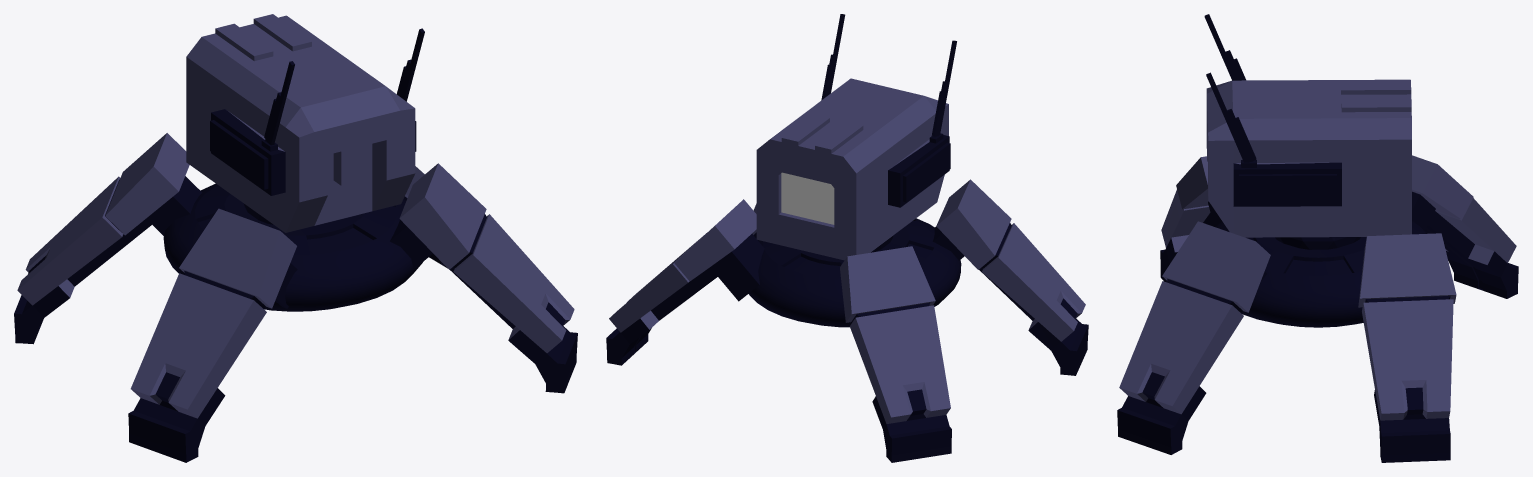
File: Araña.fbx
3 views of the same model, side by side, from view 1: azimuth 30°, elevation 25°; view 2: azimuth 150°, elevation 25°; view 3: azimuth 270°, elevation 25° (orthographic). The views are drawn at different scales.
Parts seen in each view (by area): view 1: Head, Leg.01.BL, Leg.01.BR, Body, Leg.01.FL, Leg.00.FL, Leg.00.BR; view 2: Head, Leg.01.FL, Leg.01.BL, Body, Leg.01.FR, Leg.00.FR; view 3: Head, Leg.01.FR, Leg.01.BR, Body, Leg.01.FL, Leg.01.BL, Neck, Leg.00.FL.
Boxes of the visible parts, x1,y1,x2,y2 form: Head: (186, 14, 424, 232); Leg.01.BL: (128, 208, 296, 462); Leg.01.BR: (399, 163, 577, 393); Body: (163, 183, 422, 311); Leg.01.FL: (14, 133, 189, 344); Leg.00.FL: (146, 176, 202, 235); Leg.00.BR: (390, 219, 432, 270); Head: (756, 14, 956, 260); Leg.01.FL: (840, 246, 951, 462); Leg.01.BL: (936, 179, 1088, 375); Body: (748, 218, 961, 327); Leg.01.FR: (606, 199, 756, 365); Leg.00.FR: (710, 234, 764, 301); Head: (1204, 14, 1411, 237); Leg.01.FR: (1358, 233, 1456, 462); Leg.01.BR: (1117, 221, 1270, 454); Body: (1215, 221, 1426, 327); Leg.01.FL: (1412, 155, 1518, 298); Leg.01.BL: (1160, 156, 1213, 282); Neck: (1275, 237, 1360, 249); Leg.00.FL: (1412, 191, 1435, 230).
Bounding box in the file's own units: 530 × 406 × 459.
